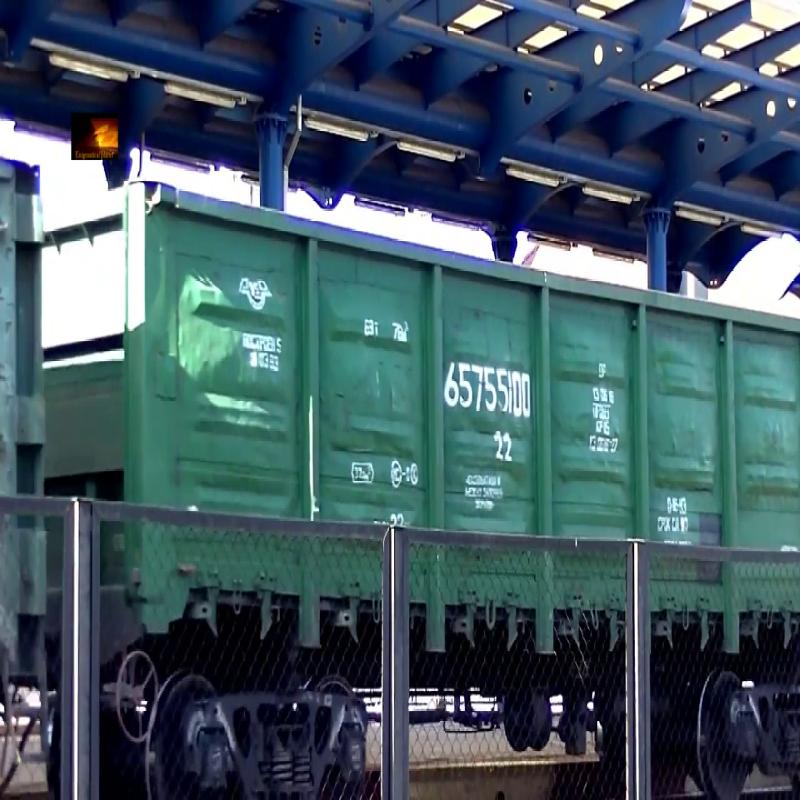train: (131, 47, 800, 771)
